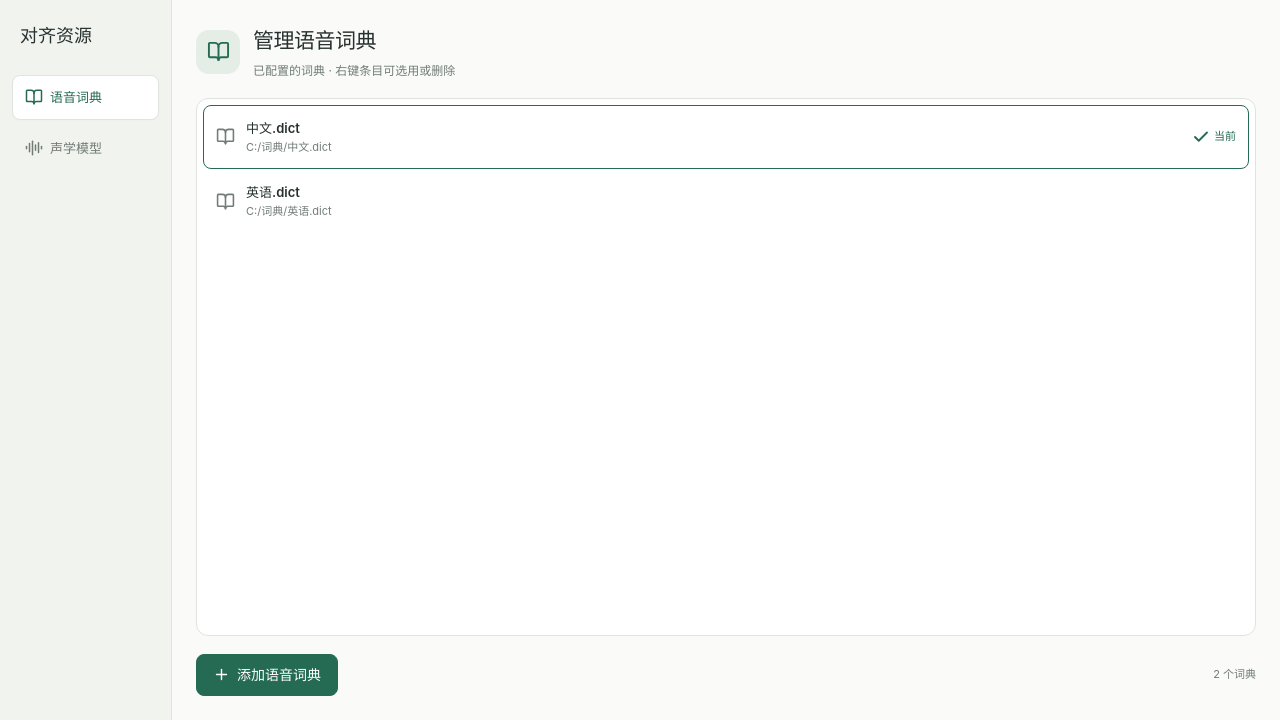
Test: keeps the old active dictionary when selecting fails
Right-click the button "英语.dict C:/词典/英语.dict".
right_click(273, 192)  # box [203,169,1249,234]
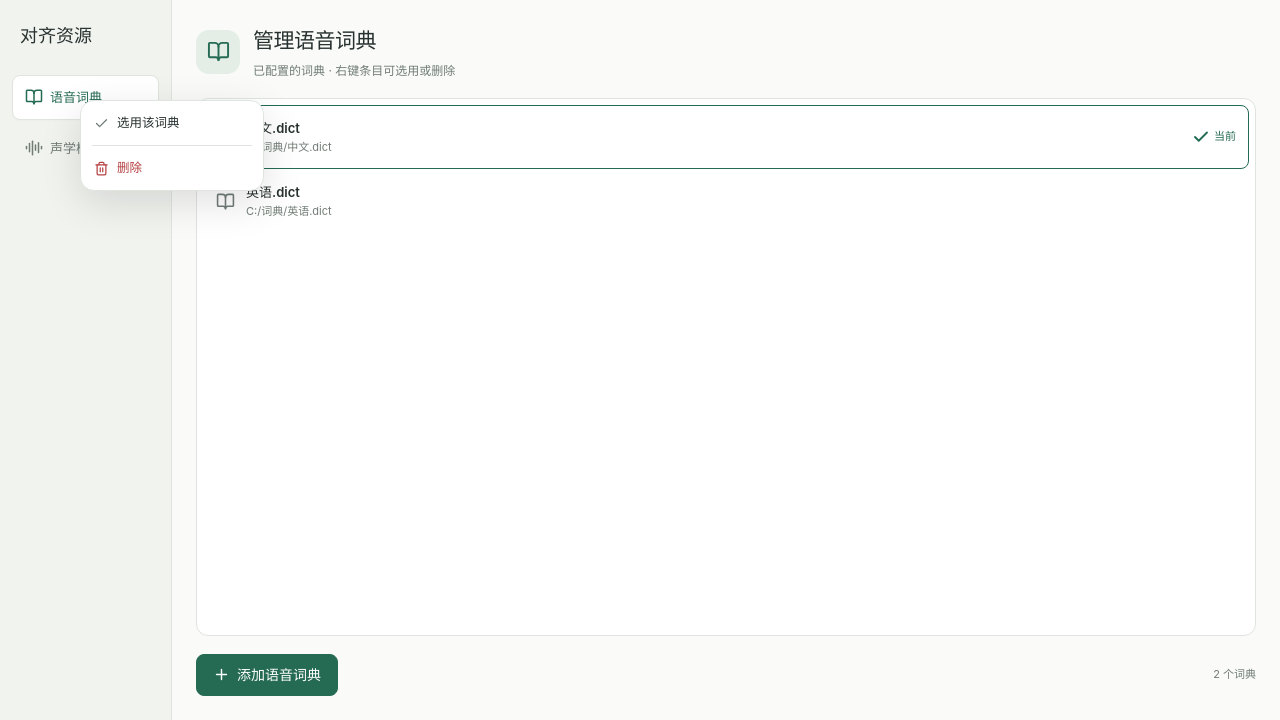
Click the menu item "选用该词典".
click(172, 123)  # box [86,106,258,140]
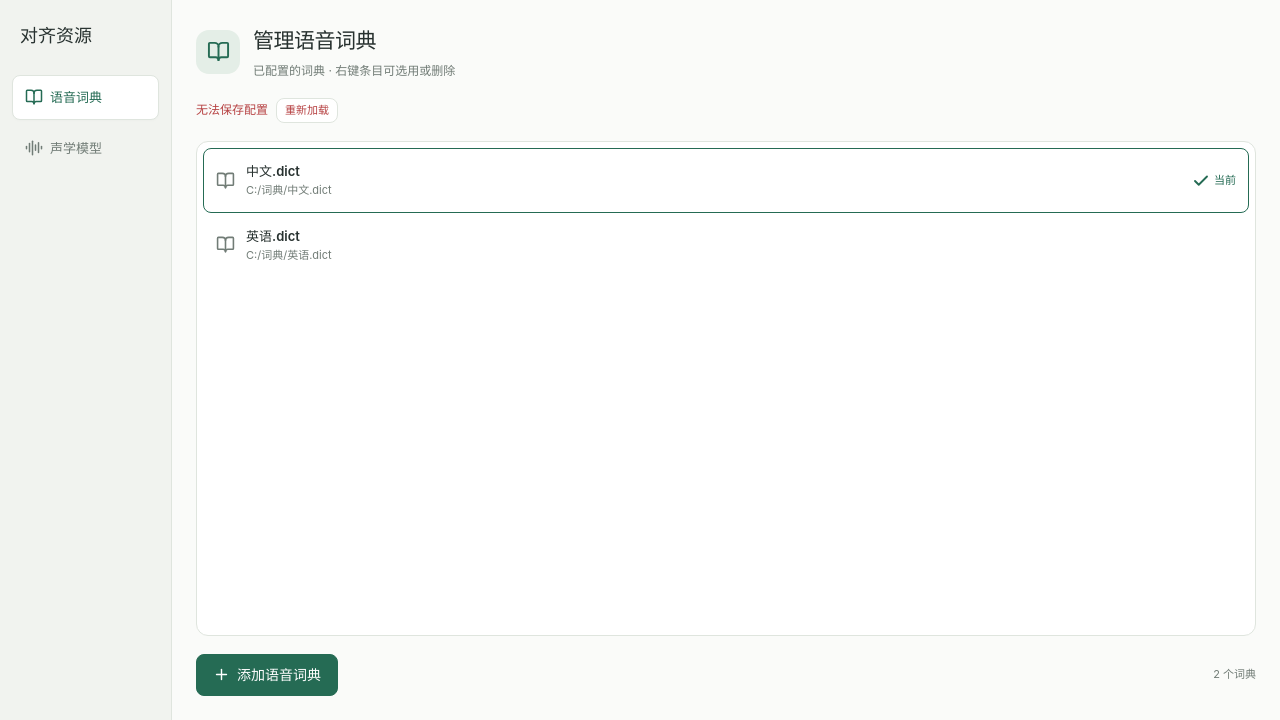
Expected: the button with class "is-active" shows "中文.dict", [203,148,1249,213]
Expected: the message "无法保存配置 重新加载" is shown, [196,98,338,123]
